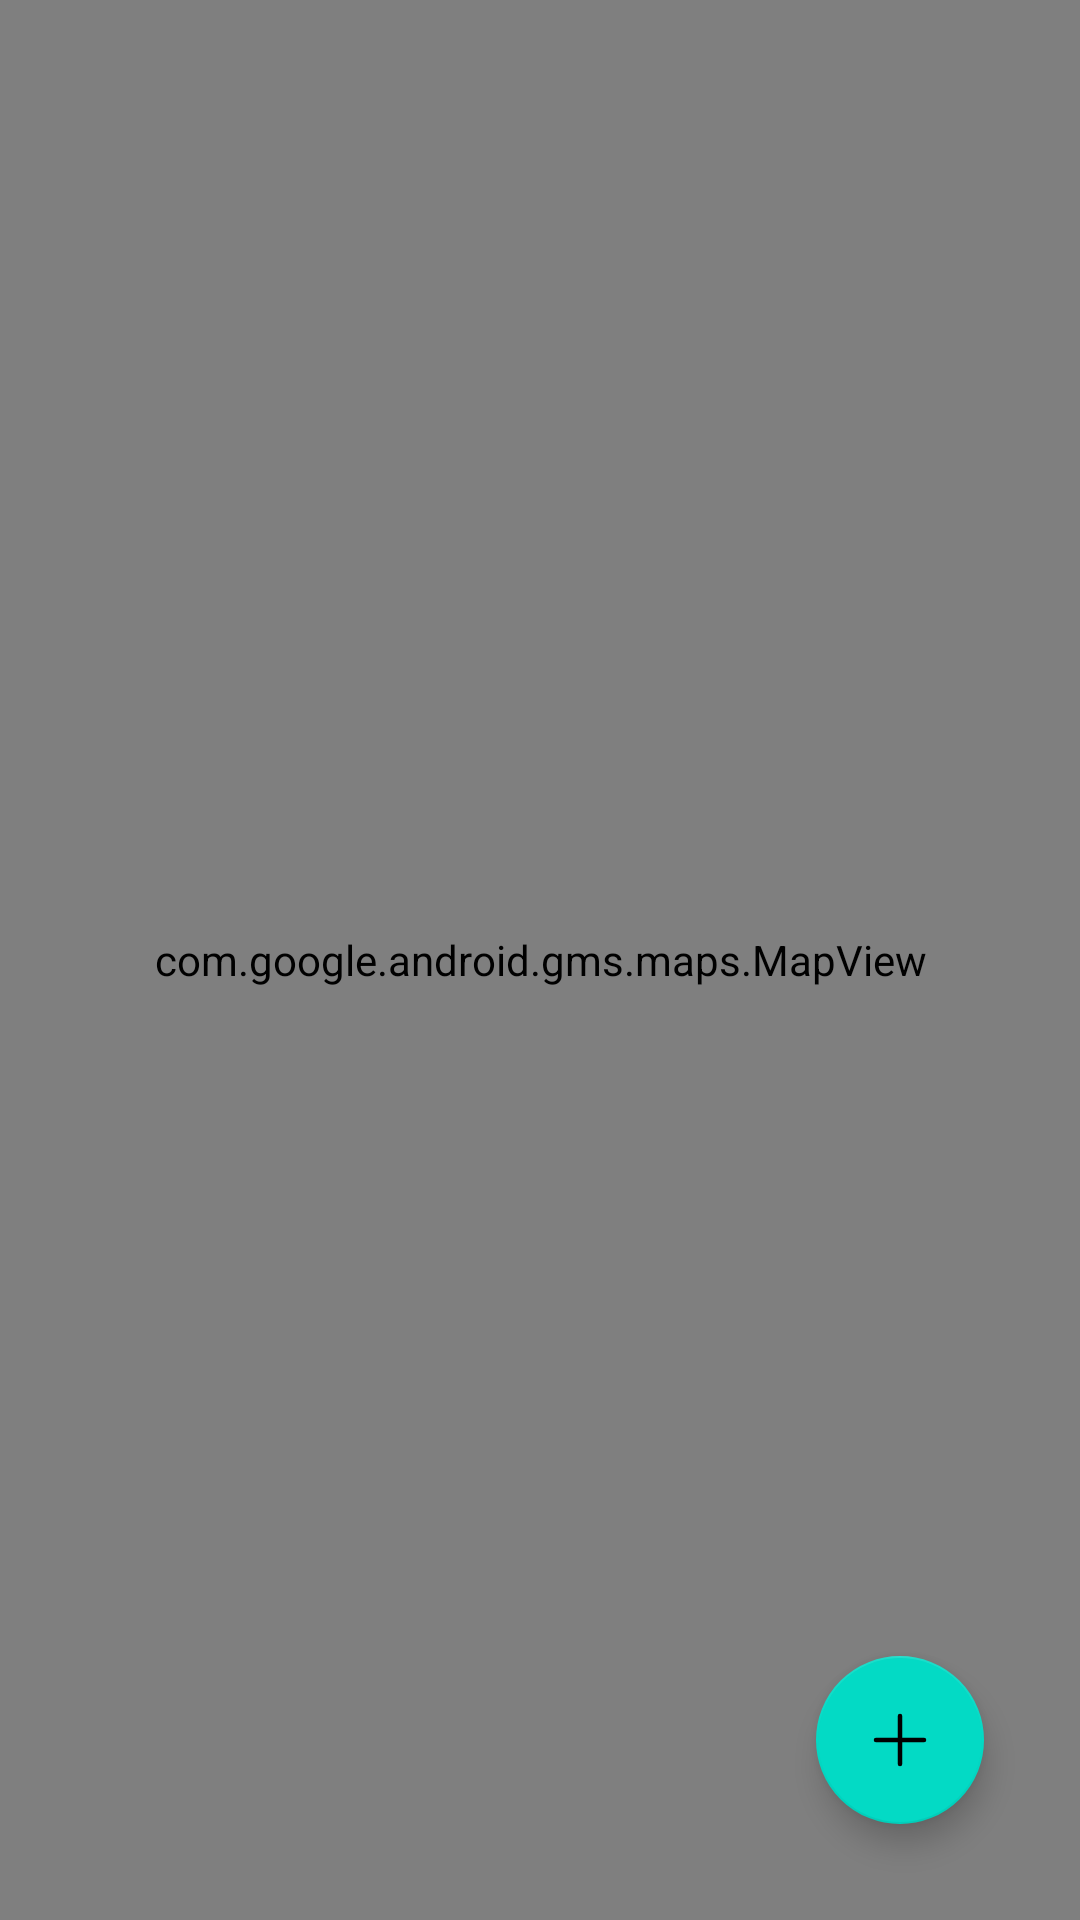

Named icons in this screenshot (1080 x 1920) and their centers, (x,y):
Schedule new collection: (900,1740)
